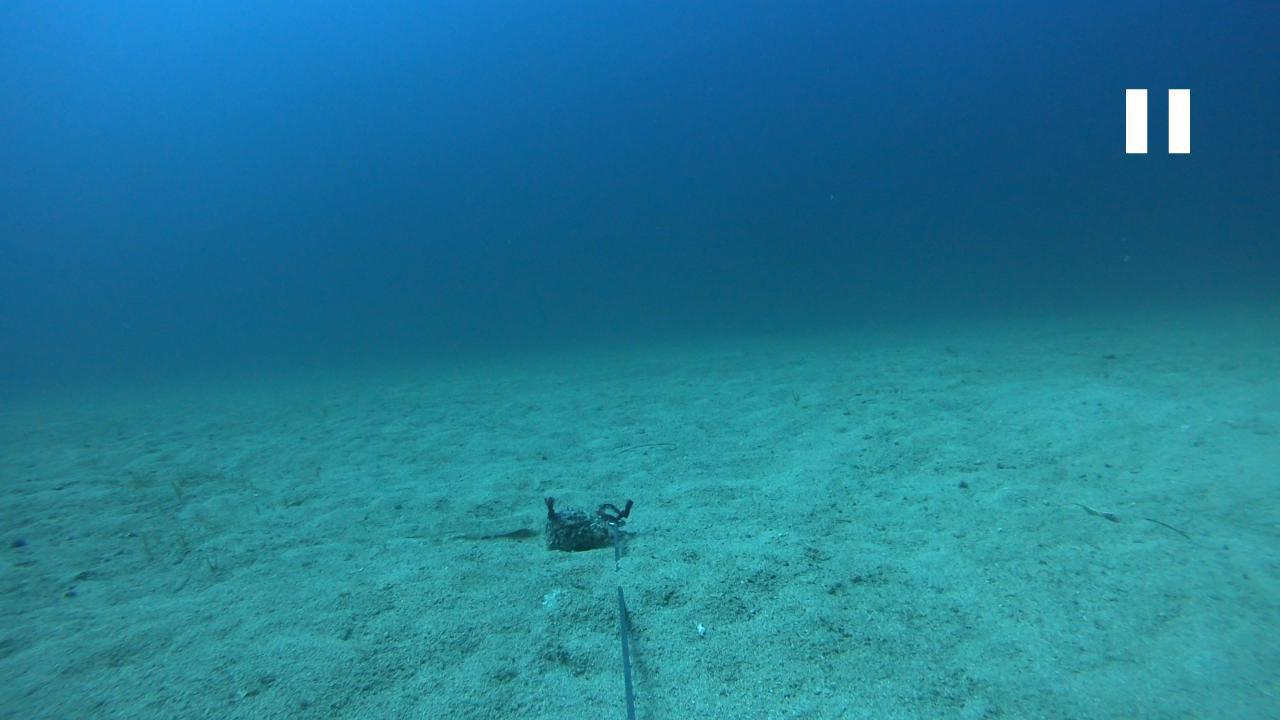bothus: (400, 508, 540, 539)
